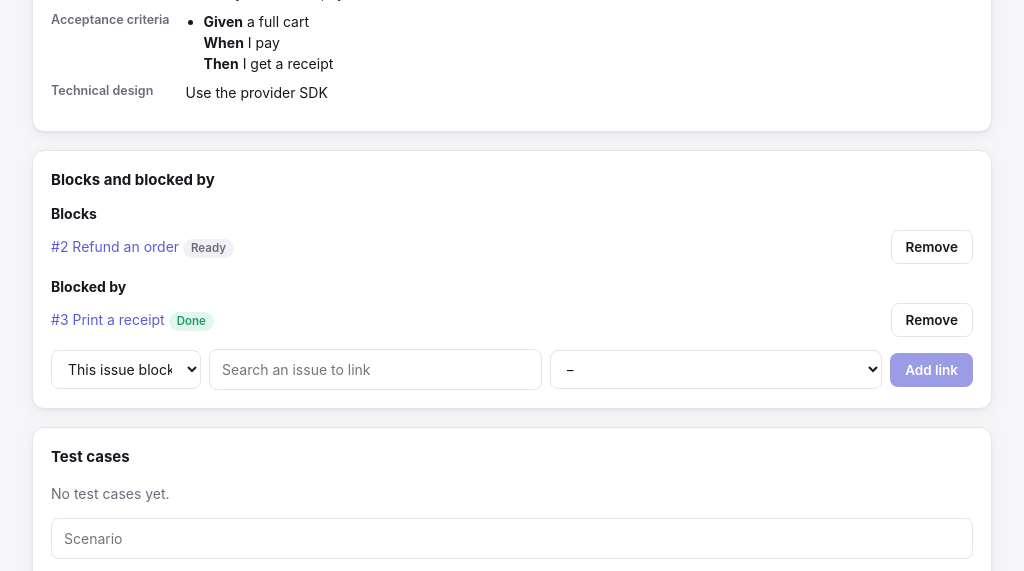
blocks and blocked by › shows cycle as a notice and keeps the choice
(page scrolled)
Type "re" into the search field labelled "Search an issue to link" at (375,370), box top-left (209, 349), bottom-right (542, 390)
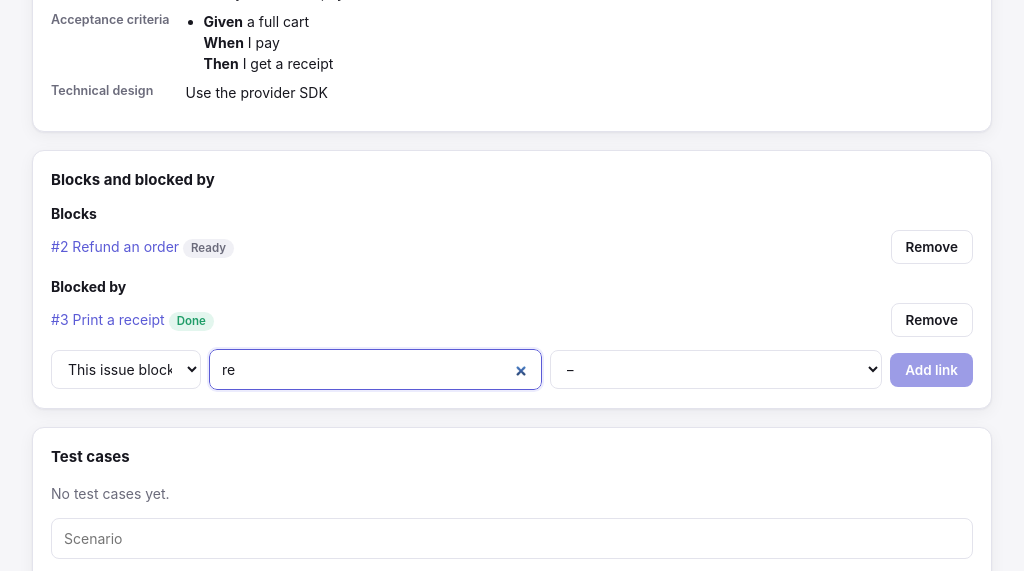
Select "#2 Refund an order" in the dropdown named "Issue to link" at (716,370), box top-left (550, 350), bottom-right (882, 389)
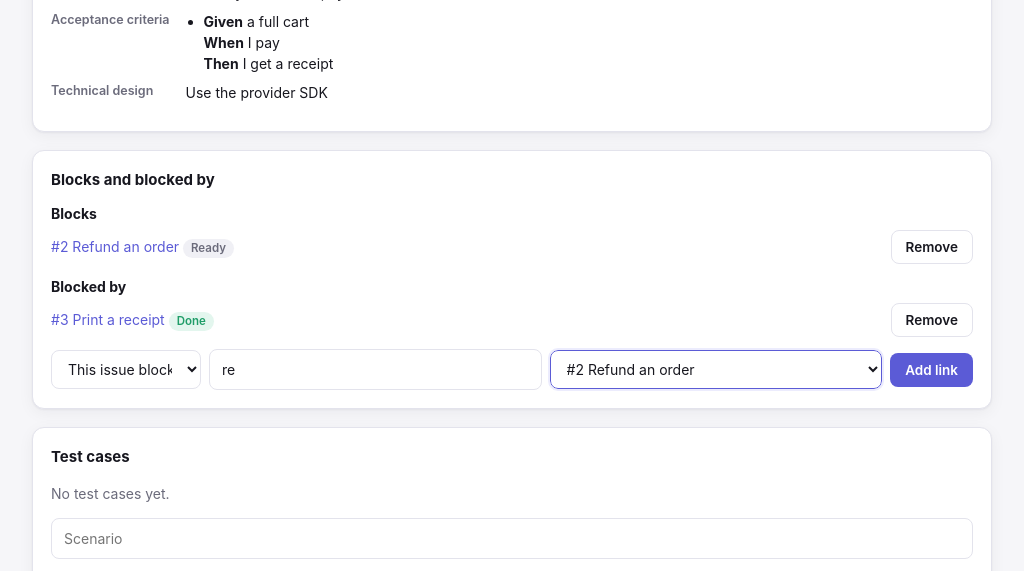
Click the button "Add link" at (932,370), box top-left (890, 352), bottom-right (973, 386)
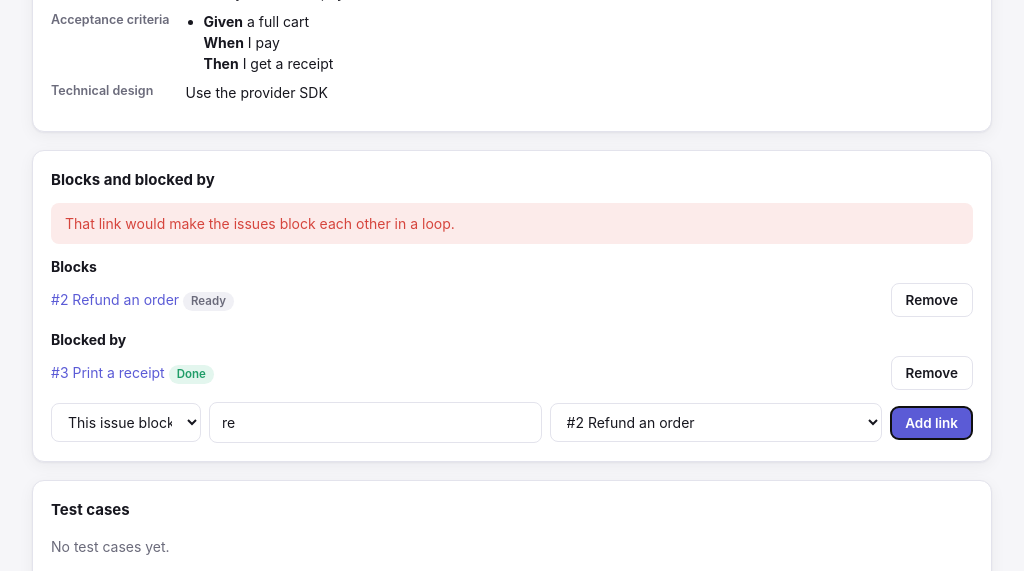
Now the text "That link would make the issues block each other in a loop." is shown, box top-left (51, 203), bottom-right (973, 244)
